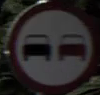No overtake: (7, 8, 91, 79)
